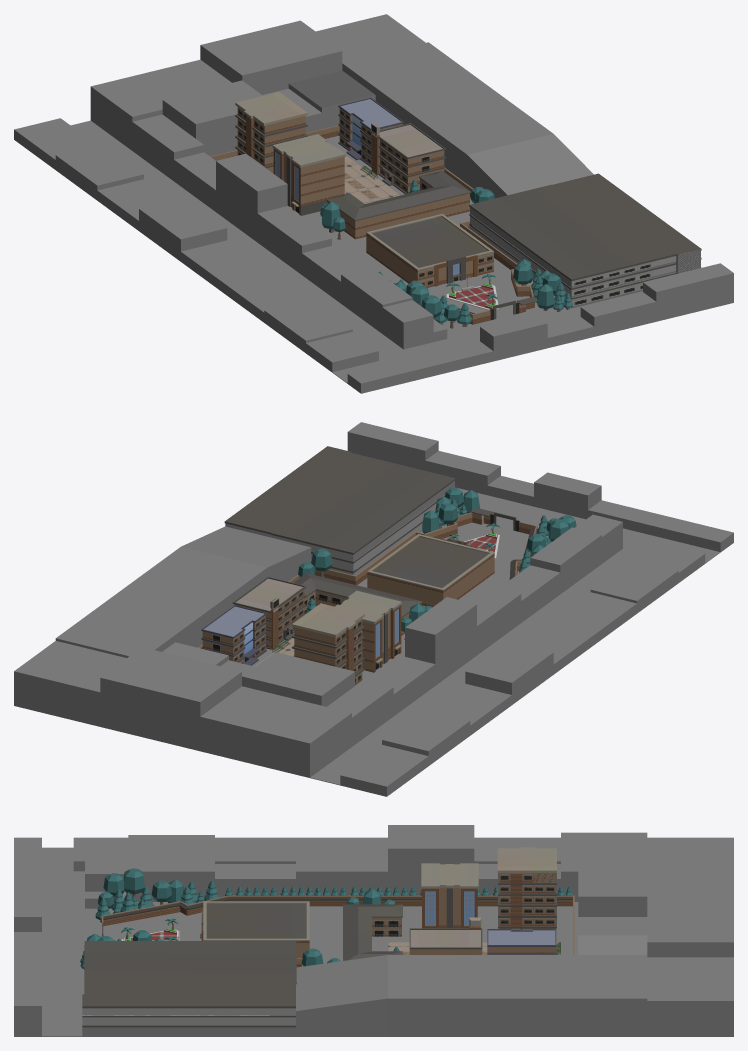
Rendered from new_qcu_map-transformed.glb.
3 renders of one model, top to bottom at view 1: azimuth 30°, elevation 25°; view 2: azimuth 150°, elevation 25°; view 3: azimuth 270°, elevation 25°, orthographic. The views are drawn at different scales.
Parts seen in each view (by area): view 1: Cube, wall, tree_oak_dark, new acad building, Triangle; view 2: Cube, wall, tree_oak_dark, new acad building; view 3: Cube, wall, tree_oak_dark, new acad building.
Part boxes in pixels (x1,y1,x2,y2): Cube: [14, 14, 733, 393]; wall: [210, 92, 537, 324]; tree_oak_dark: [320, 179, 572, 328]; new acad building: [338, 97, 403, 167]; Triangle: [446, 276, 498, 310]; Cube: [14, 422, 733, 796]; wall: [198, 508, 537, 685]; tree_oak_dark: [298, 487, 576, 639]; new acad building: [201, 605, 266, 665]; Cube: [14, 825, 733, 1036]; wall: [102, 847, 574, 967]; tree_oak_dark: [80, 868, 572, 969]; new acad building: [487, 929, 556, 954].
Bounding box in the file's own units: 16.02 × 2.77 × 25.8.
12 materials, 8 textured.
